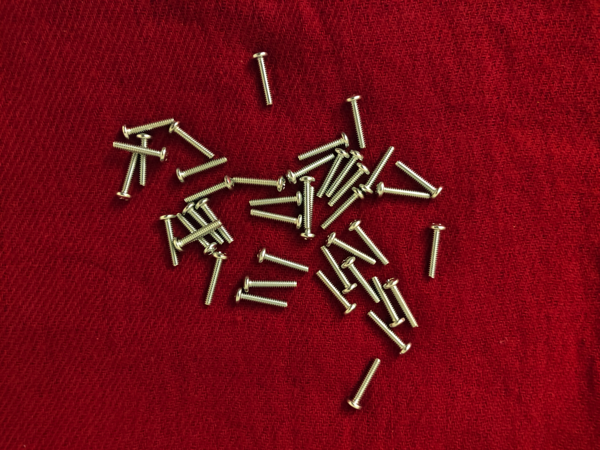longscrew: (320, 185, 367, 232), (365, 310, 413, 356), (315, 267, 358, 317), (327, 162, 372, 209), (347, 219, 391, 267), (394, 158, 444, 200), (181, 201, 226, 247), (194, 198, 236, 246), (340, 256, 381, 305), (325, 149, 365, 199), (346, 356, 382, 411), (371, 275, 407, 330), (382, 278, 420, 330), (359, 145, 397, 197), (319, 245, 357, 296), (176, 212, 219, 257), (168, 120, 216, 159), (316, 147, 351, 200), (325, 232, 378, 266), (285, 153, 336, 187), (172, 218, 224, 251), (297, 132, 351, 162), (183, 174, 234, 205), (175, 155, 229, 183), (202, 251, 229, 306), (250, 51, 276, 107), (121, 116, 177, 142), (256, 248, 311, 274), (115, 149, 141, 203), (111, 140, 169, 164), (344, 94, 368, 150), (425, 222, 448, 279), (233, 288, 290, 310), (249, 208, 304, 230), (374, 181, 434, 201), (159, 215, 180, 268), (249, 190, 305, 209), (299, 175, 317, 232), (242, 276, 300, 293), (135, 132, 152, 188), (229, 176, 288, 192), (300, 186, 317, 240)
